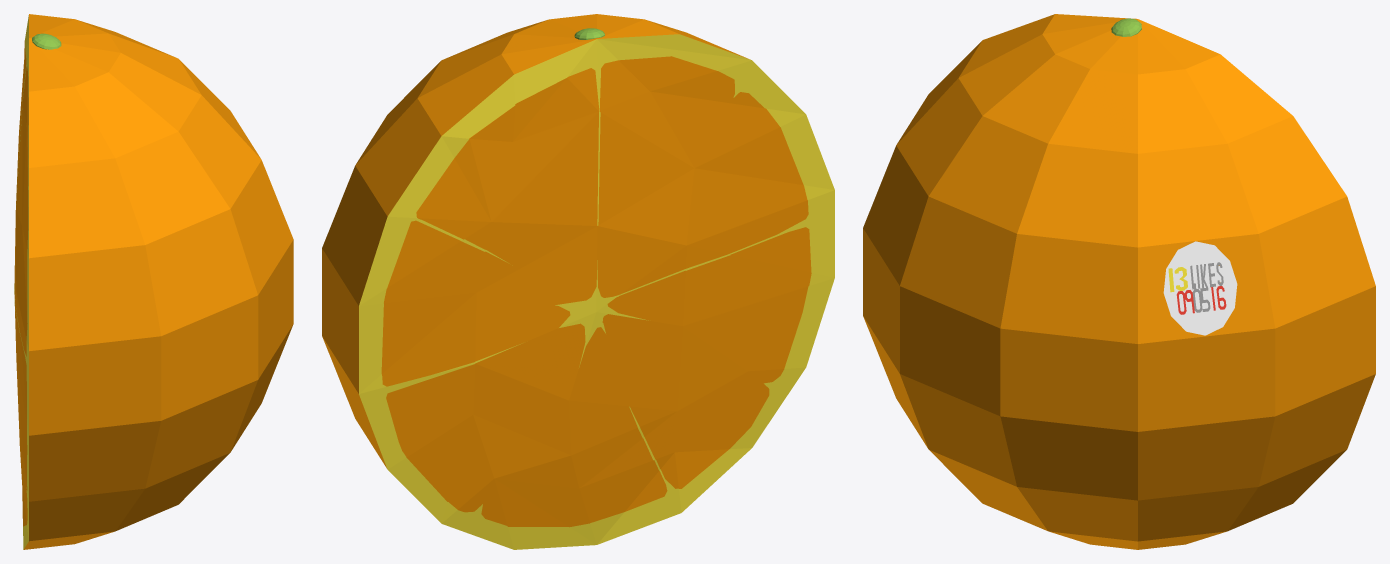
Rendered from orange.glb.
3 views of the same model, side by side, from view 1: azimuth 30°, elevation 25°; view 2: azimuth 150°, elevation 25°; view 3: azimuth 270°, elevation 25° (orthographic). The views are drawn at different scales.
Parts seen in each view (by area): view 1: group1765569351, group1886560871; view 2: group1765569351; view 3: group1765569351, group81871539.
Part boxes in pixels (bbox=[...]): group1765569351: bbox=[14, 14, 293, 549]; group1886560871: bbox=[32, 33, 61, 49]; group1765569351: bbox=[322, 14, 834, 549]; group1765569351: bbox=[863, 14, 1375, 549]; group81871539: bbox=[1163, 241, 1237, 335].
Size of the model in its own units: 1.46 by 1.98 by 1.81.
